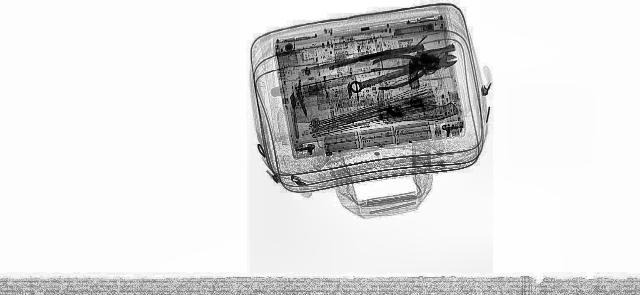Gun: (404, 44, 458, 88)
Knife: (288, 78, 460, 122)
Pliers: (342, 42, 472, 90)
Wrench: (339, 53, 466, 94)
